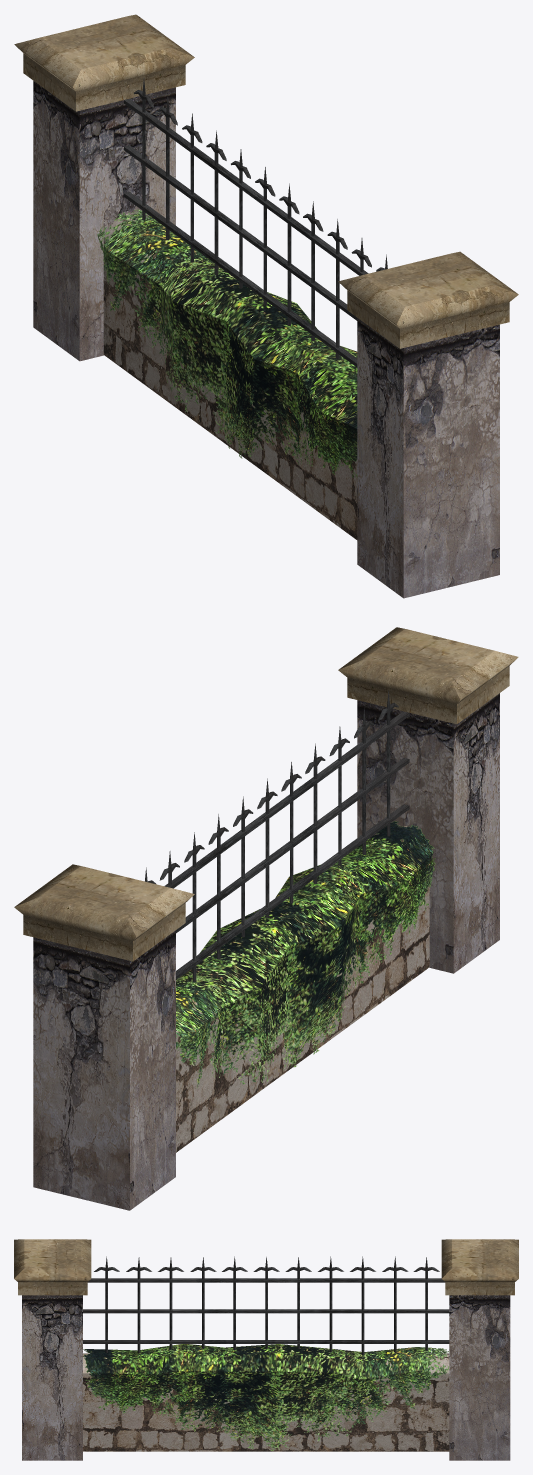
The model's file is Wall_Segment_02.fbx.
3 views of the same model, one above another, from view 1: azimuth 30°, elevation 25°; view 2: azimuth 150°, elevation 25°; view 3: azimuth 270°, elevation 25° (orthographic). The views are drawn at different scales.
Parts seen in each view (by area): view 1: wall_segment_02; view 2: wall_segment_02; view 3: wall_segment_02.
Boxes of the visible parts, <box> form: wall_segment_02: <box>14,14,518,598</box>; wall_segment_02: <box>14,627,518,1210</box>; wall_segment_02: <box>14,1239,518,1460</box>.
Bounding box in the file's own units: 1.53 × 3.54 × 8.27.
